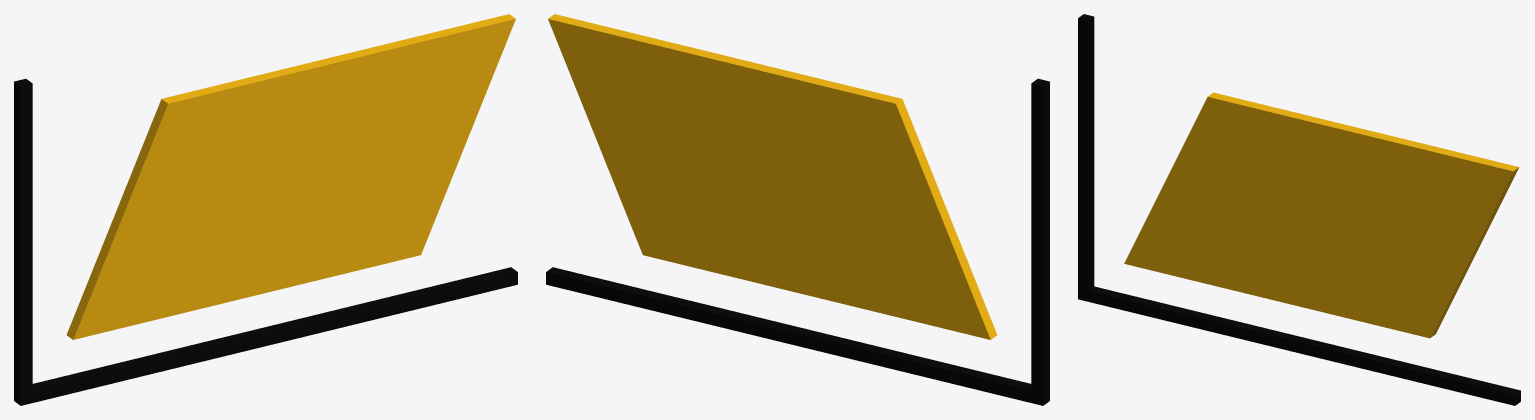
Rendered from romboide.fbx.
3 renders of one model, left to right at view 1: azimuth 30°, elevation 25°; view 2: azimuth 150°, elevation 25°; view 3: azimuth 330°, elevation 25°, orthographic. The views are drawn at different scales.
Parts seen in each view (by area): view 1: Mesh_1.003, Mesh_0.003; view 2: Mesh_1.003, Mesh_0.003; view 3: Mesh_1.003, Mesh_0.003.
Boxes of the visible parts, x1,y1,x2,y2 form: Mesh_1.003: (66, 14, 515, 339); Mesh_0.003: (14, 78, 517, 405); Mesh_1.003: (548, 14, 997, 339); Mesh_0.003: (546, 78, 1049, 405); Mesh_1.003: (1124, 92, 1519, 338); Mesh_0.003: (1078, 14, 1520, 405).
Size of the model in its own units: 9.76 by 6 by 0.2281.
